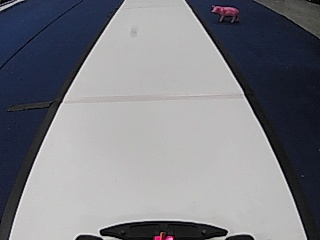pig: (208, 3, 241, 24)
